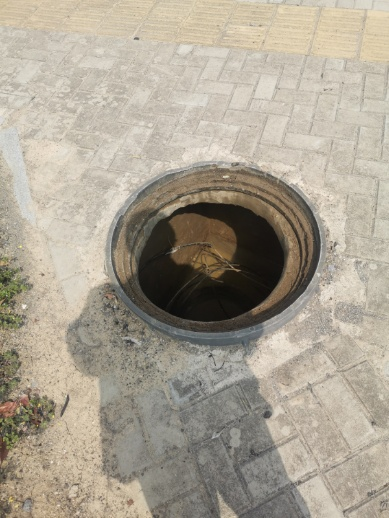well: (104, 161, 325, 341)
